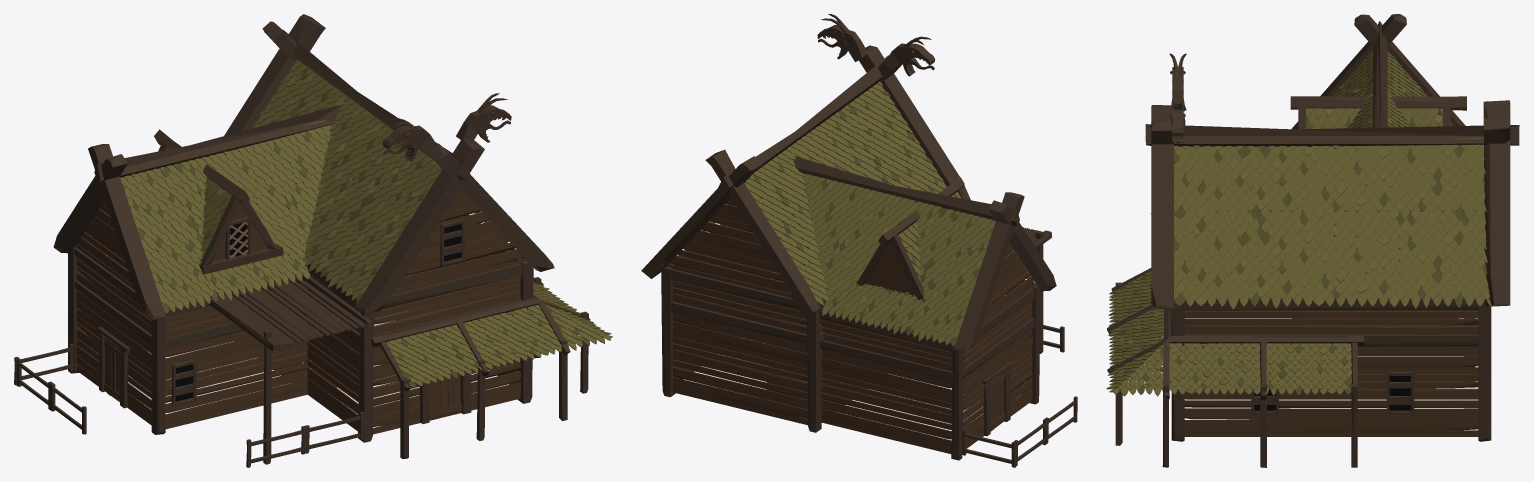
File: SM_building_blacksmith_norse.fbx
3 renders of one model, left to right at view 1: azimuth 30°, elevation 25°; view 2: azimuth 150°, elevation 25°; view 3: azimuth 270°, elevation 25°, orthographic. The views are drawn at different scales.
Visible parts, largest first — view 1: Object335; view 2: Object335; view 3: Object335.
Part boxes in pixels (left/top/right/bottom): Object335: left=14, top=14, right=612, bottom=467; Object335: left=641, top=14, right=1077, bottom=467; Object335: left=1106, top=14, right=1519, bottom=467.
Bounding box in the file's own units: 667 × 461 × 538.
